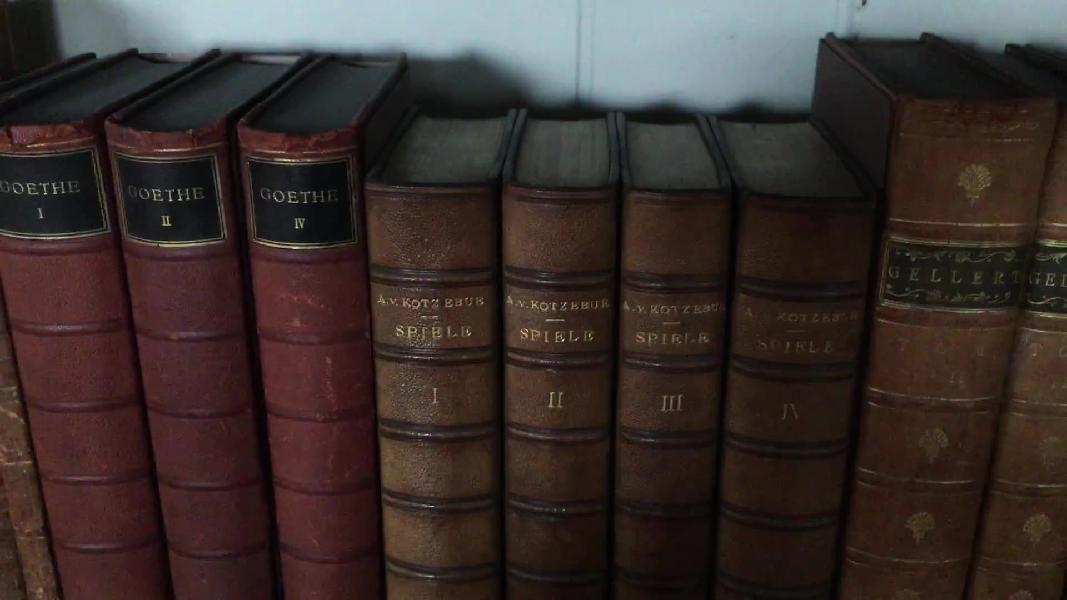Aa6-11_13: (8, 100, 387, 600)
Aa6-14_17: (358, 174, 882, 600)
